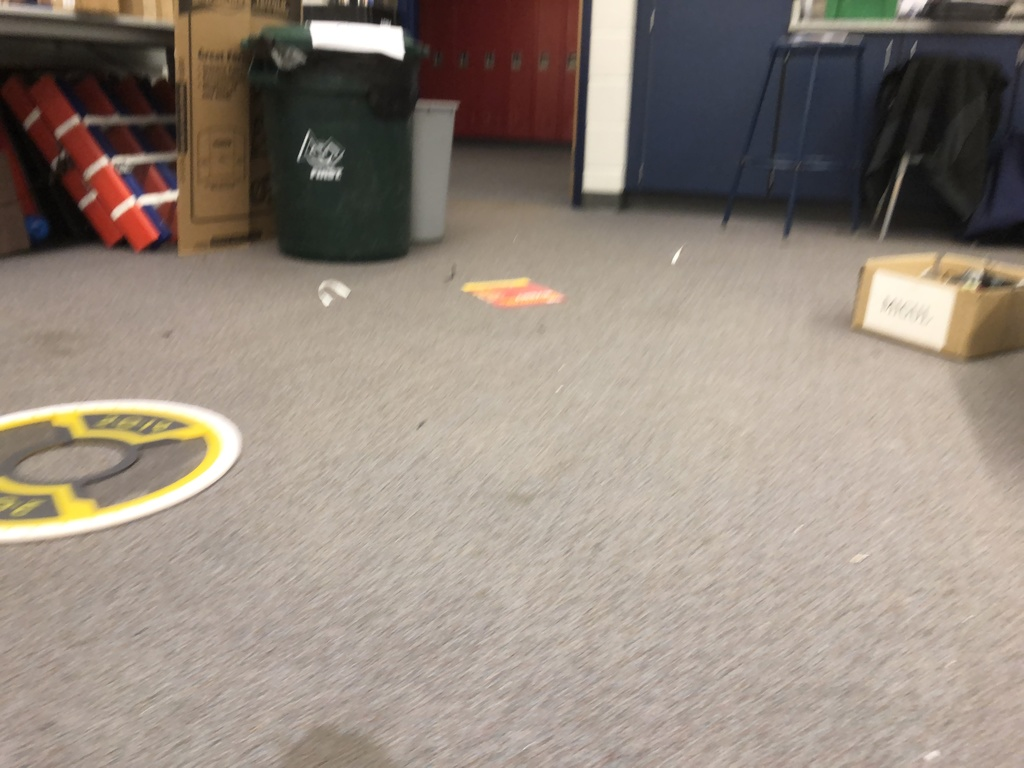hatch_panel: (1, 395, 264, 552)
